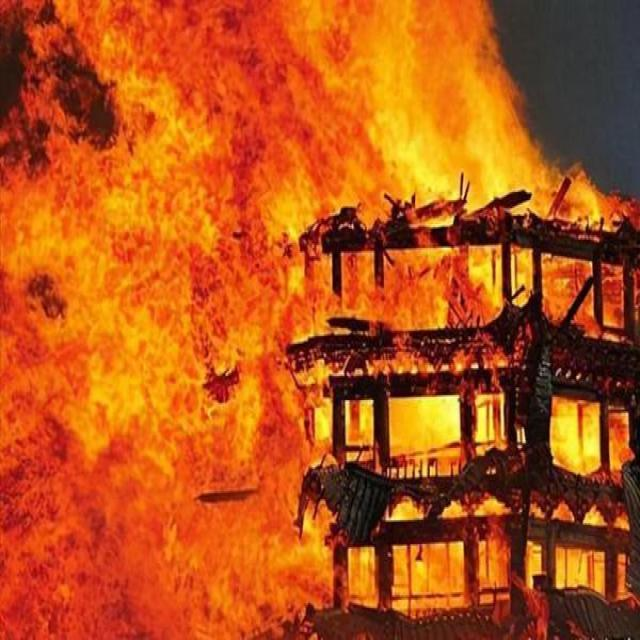Fire: (1, 0, 294, 640), (295, 0, 599, 222), (390, 396, 461, 470), (550, 392, 602, 474)
